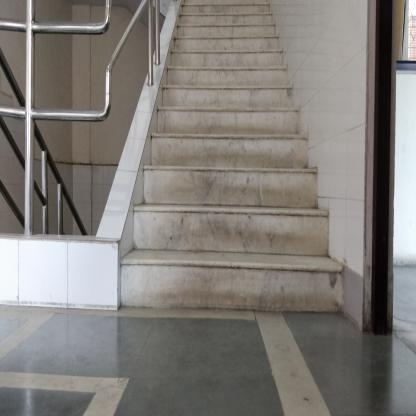stairs: (173, 49, 282, 316)
